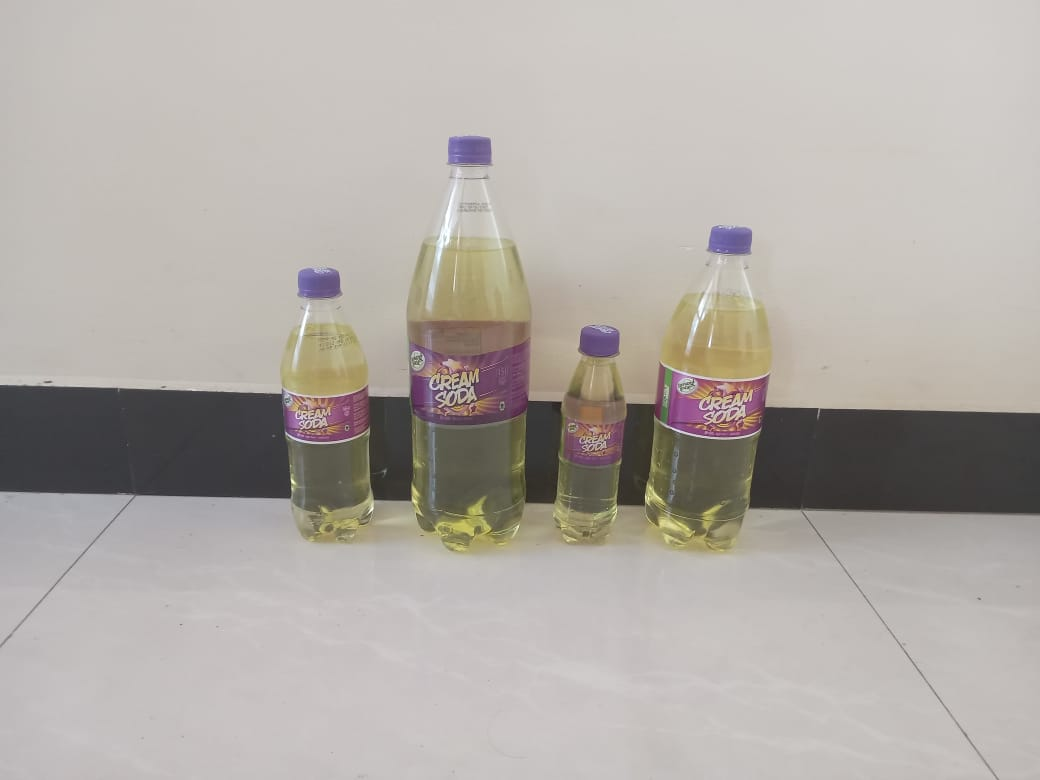L: (406, 137, 532, 559)
M: (645, 223, 773, 554)
S: (271, 269, 381, 545)
Xs: (552, 326, 627, 550)
